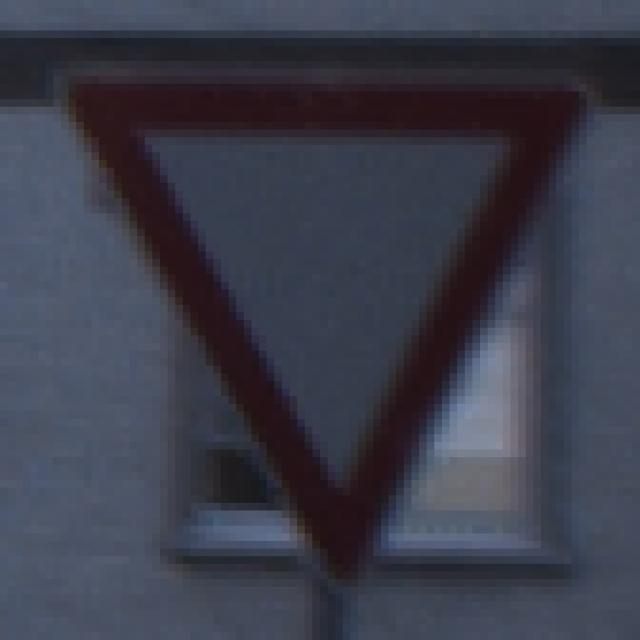Give Way: (54, 54, 588, 588)
